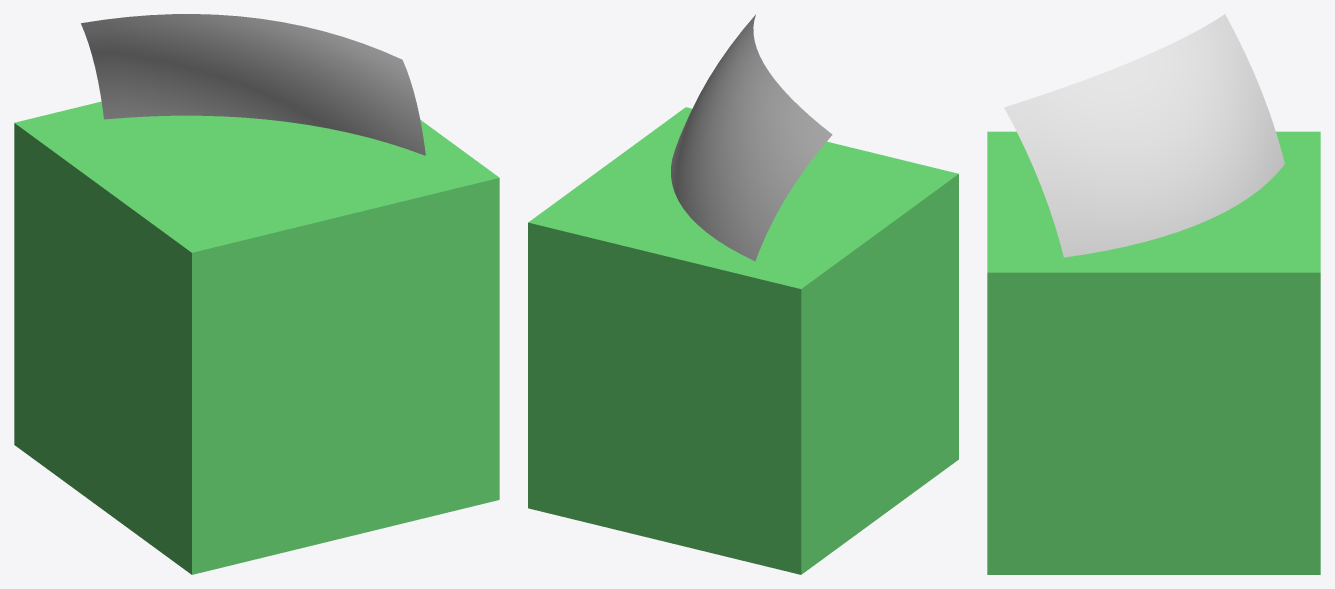
Rendered from TissueBox.glb.
3 views of the same model, side by side, from view 1: azimuth 30°, elevation 25°; view 2: azimuth 150°, elevation 25°; view 3: azimuth 270°, elevation 25° (orthographic). The views are drawn at different scales.
Visible parts, largest first — view 1: Cube, SurfPatch; view 2: Cube, SurfPatch; view 3: Cube, SurfPatch.
Boxes of the visible parts, x1,y1,x2,y2 form: Cube: [14, 101, 499, 574]; SurfPatch: [81, 14, 425, 155]; Cube: [528, 107, 958, 574]; SurfPatch: [671, 14, 832, 261]; Cube: [987, 131, 1320, 574]; SurfPatch: [1004, 14, 1284, 257].
Bounding box in the file's own units: 0.16 × 0.2314 × 0.16.
